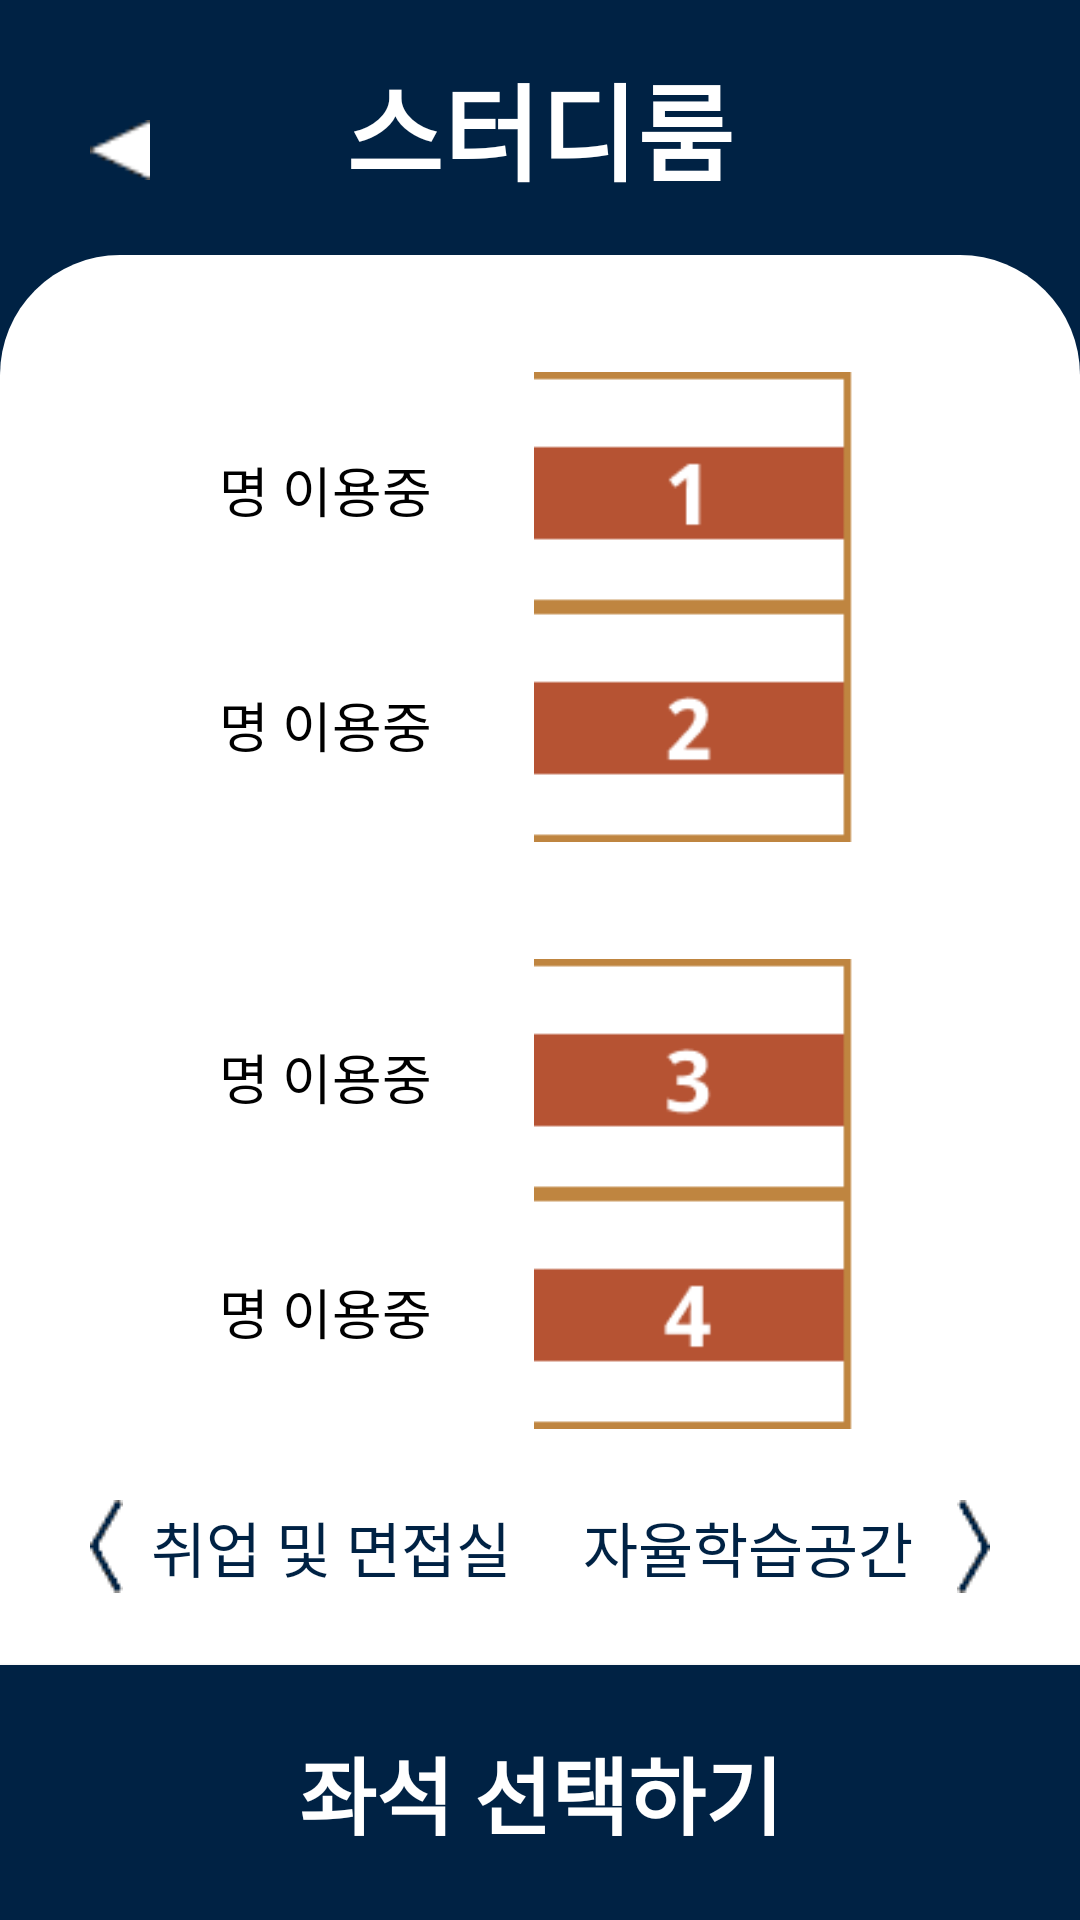

Where to tap for icons on this 1080x1920 app screen, as (x,y):
back arrow resize: (120,150)
studyroom table: (693,489), (693,724), (693,1076), (693,1311)
